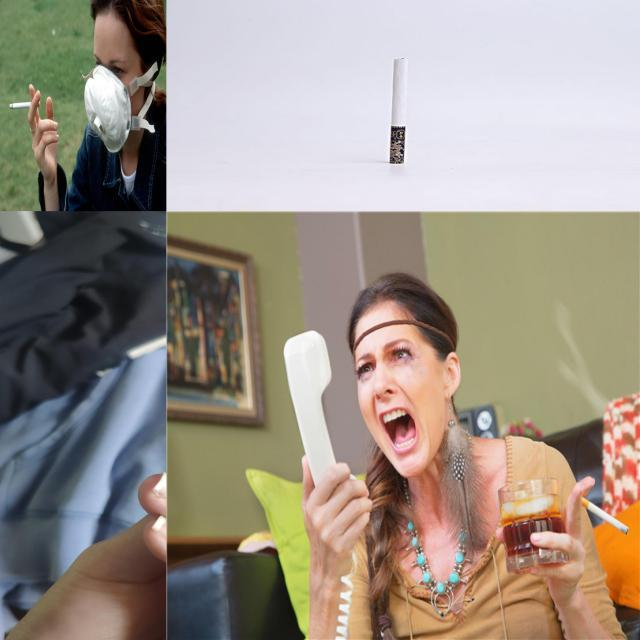smoke: (575, 492, 629, 535), (389, 57, 407, 165), (9, 100, 41, 109)
